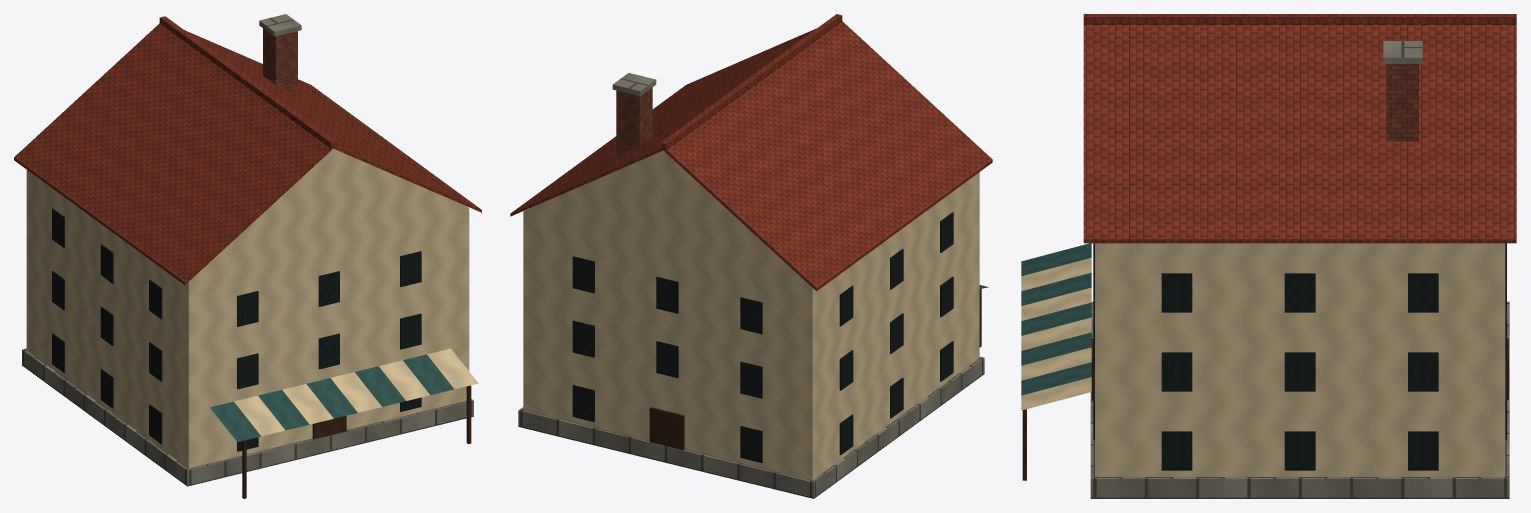
Rendered from SG_House_C_Shop_LOD2.fbx.
3 views of the same model, side by side, from view 1: azimuth 30°, elevation 25°; view 2: azimuth 150°, elevation 25°; view 3: azimuth 270°, elevation 25° (orthographic). The views are drawn at different scales.
Visible parts, largest first — view 1: SG_House_C_Shop_Detail2; view 2: SG_House_C_Shop_Detail2; view 3: SG_House_C_Shop_Detail2.
Part boxes in pixels (bbox=[...]): SG_House_C_Shop_Detail2: bbox=[14, 14, 481, 498]; SG_House_C_Shop_Detail2: bbox=[510, 14, 992, 498]; SG_House_C_Shop_Detail2: bbox=[1021, 14, 1516, 498].
Bounding box in the file's own units: 25.4 × 26.2 × 28.95.
